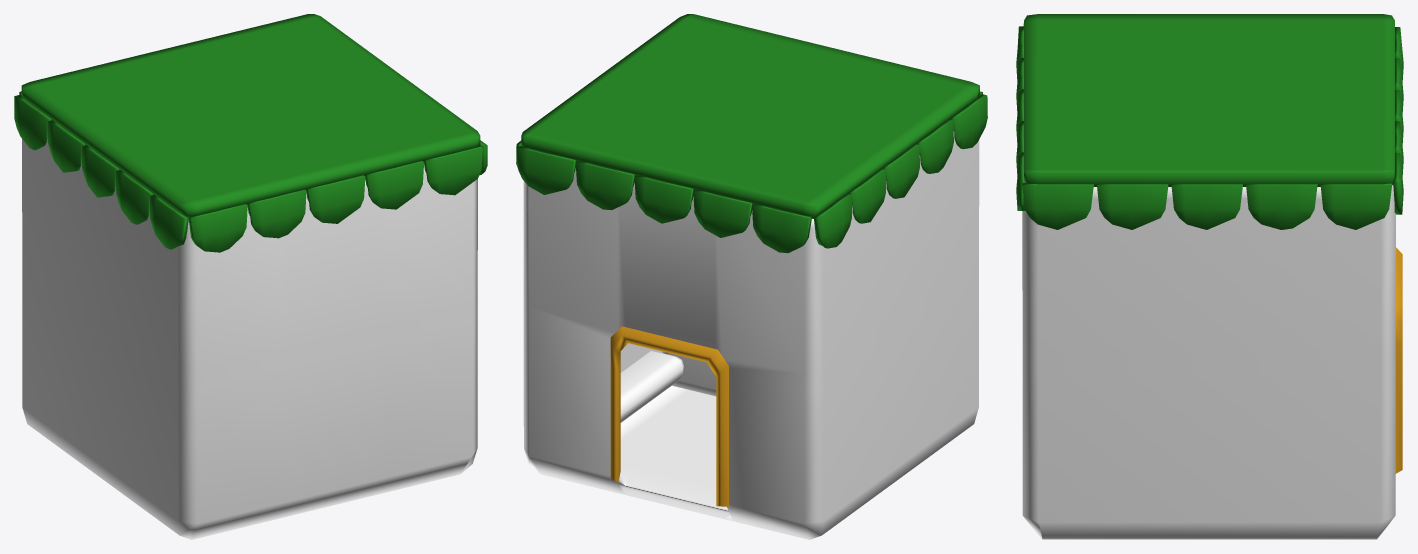
File: HouseNormalLow.fbx
3 renders of one model, left to right at view 1: azimuth 30°, elevation 25°; view 2: azimuth 150°, elevation 25°; view 3: azimuth 270°, elevation 25°, orthographic. The views are drawn at different scales.
Visible parts, largest first — view 1: HouseNormal1; view 2: HouseNormal1; view 3: HouseNormal1.
Part boxes in pixels (<box>): HouseNormal1: <box>14,14,487,539</box>; HouseNormal1: <box>516,14,987,539</box>; HouseNormal1: <box>1016,14,1403,539</box>.
Size of the model in its own units: 2.2 by 2.32 by 2.18.
Materials: 1 (1 with a texture image).
